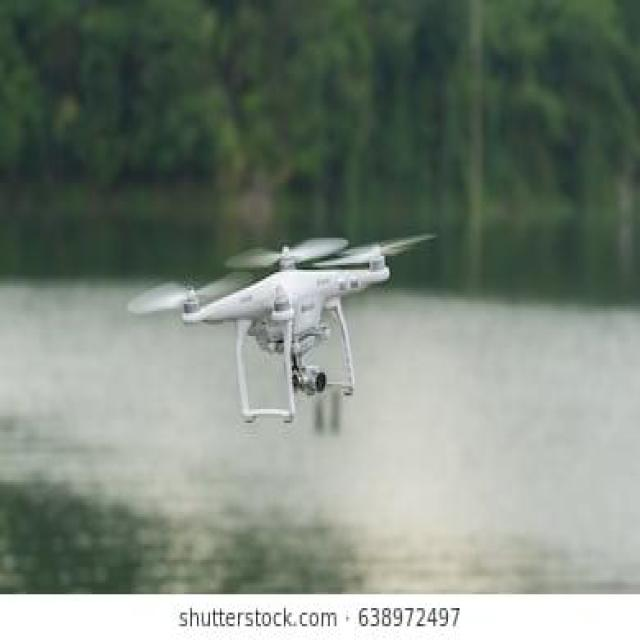drone: (151, 175, 409, 456)
